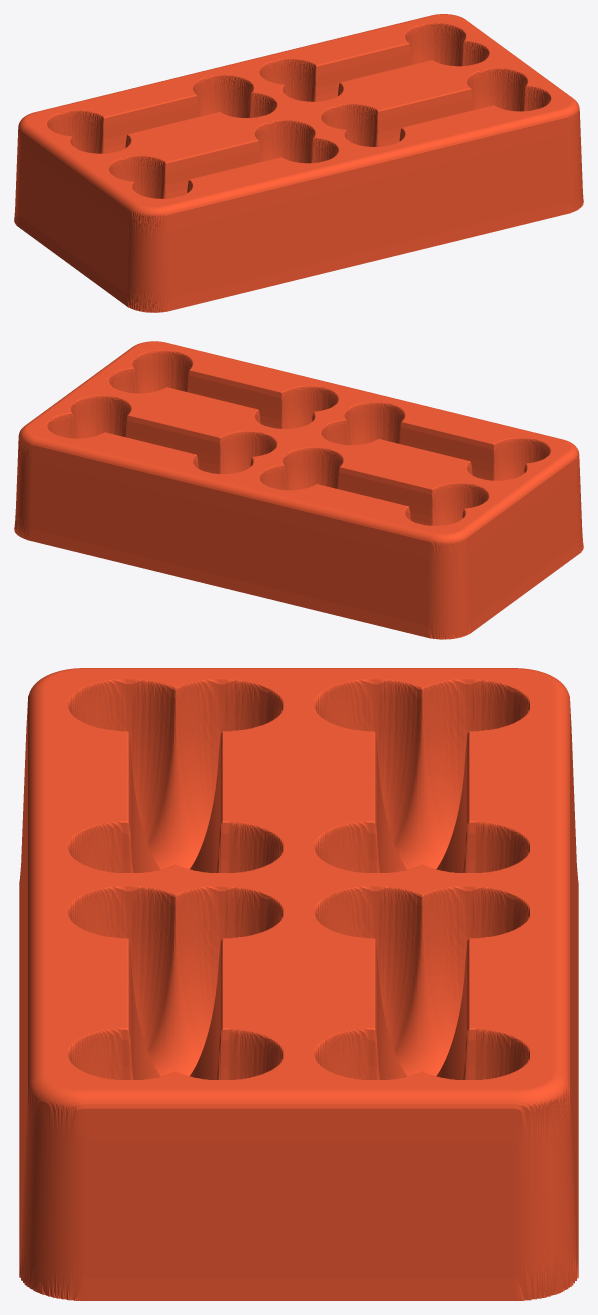
Rendered from mold.glb.
3 renders of one model, top to bottom at view 1: azimuth 30°, elevation 25°; view 2: azimuth 150°, elevation 25°; view 3: azimuth 270°, elevation 25°, orthographic. The views are drawn at different scales.
Parts seen in each view (by area): view 1: geometry_0; view 2: geometry_0; view 3: geometry_0.
Part boxes in pixels (bbox=[...]): geometry_0: bbox=[14, 14, 583, 312]; geometry_0: bbox=[14, 341, 583, 639]; geometry_0: bbox=[19, 668, 578, 1300].
Size of the model in its own units: 0.1466 by 0.031 by 0.0784.
